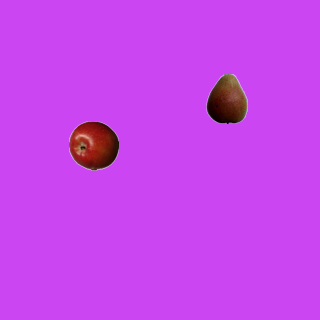Apple Braeburn: (68, 120, 118, 170)
Pear Forelle: (201, 73, 251, 123)
